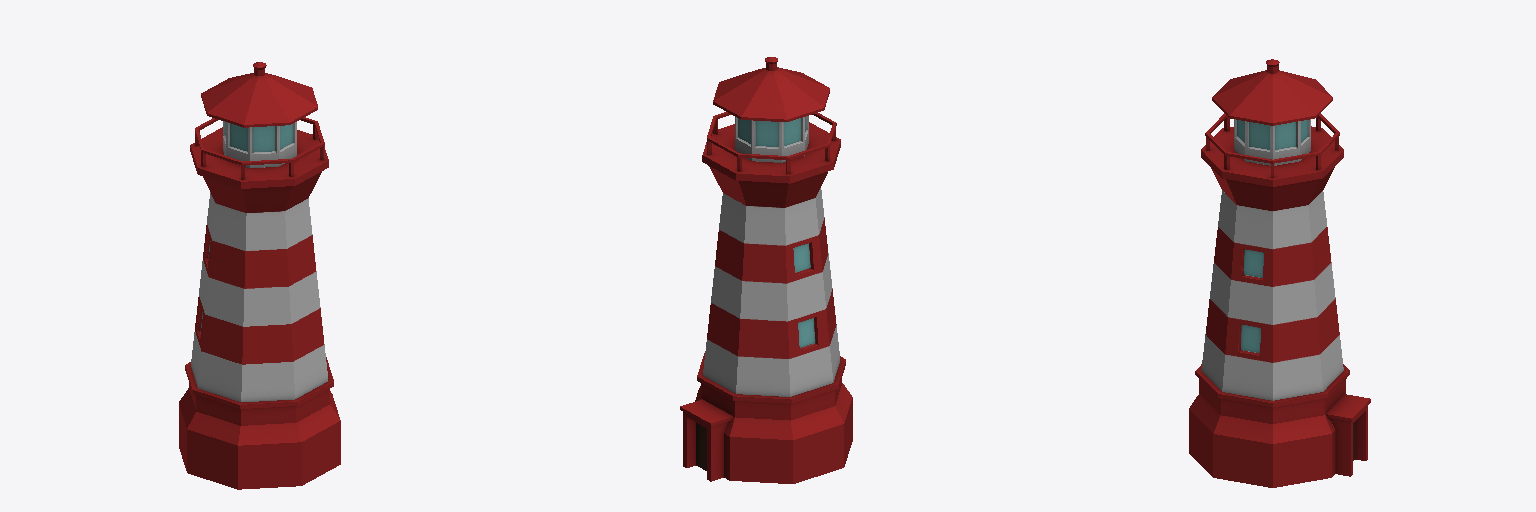
The picture shows the model from 3 angles: view 1: azimuth 30°, elevation 25°; view 2: azimuth 150°, elevation 25°; view 3: azimuth 270°, elevation 25°; orthographic projection.
Visible parts, largest first — view 1: Lighthouse; view 2: Lighthouse; view 3: Lighthouse.
Boxes of the visible parts, box(x1,y1,x2,y2) form: Lighthouse: box(179, 62, 340, 489); Lighthouse: box(680, 57, 852, 483); Lighthouse: box(1189, 59, 1370, 487).
Bounding box in the file's own units: 13.83 × 35.81 × 15.04.
1 materials, 1 textured.